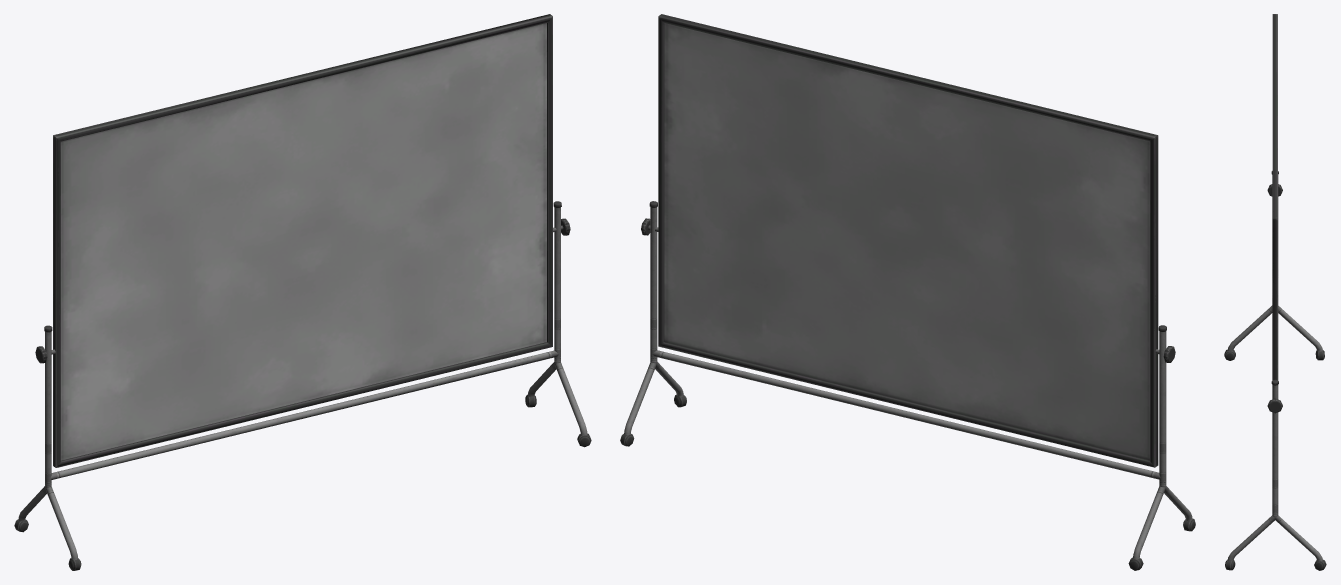
File: whiteboard_screen.dae
3 renders of one model, left to right at view 1: azimuth 30°, elevation 25°; view 2: azimuth 150°, elevation 25°; view 3: azimuth 270°, elevation 25°, orthographic. The views are drawn at different scales.
Parts seen in each view (by area): view 1: low; view 2: low; view 3: low.
Part boxes in pixels (box(x1,y1,x2,y2)): low: box(14, 14, 591, 570); low: box(620, 14, 1195, 570); low: box(1224, 14, 1326, 570).
Bounding box in the file's own units: 4.15 × 3.1 × 0.8247.
